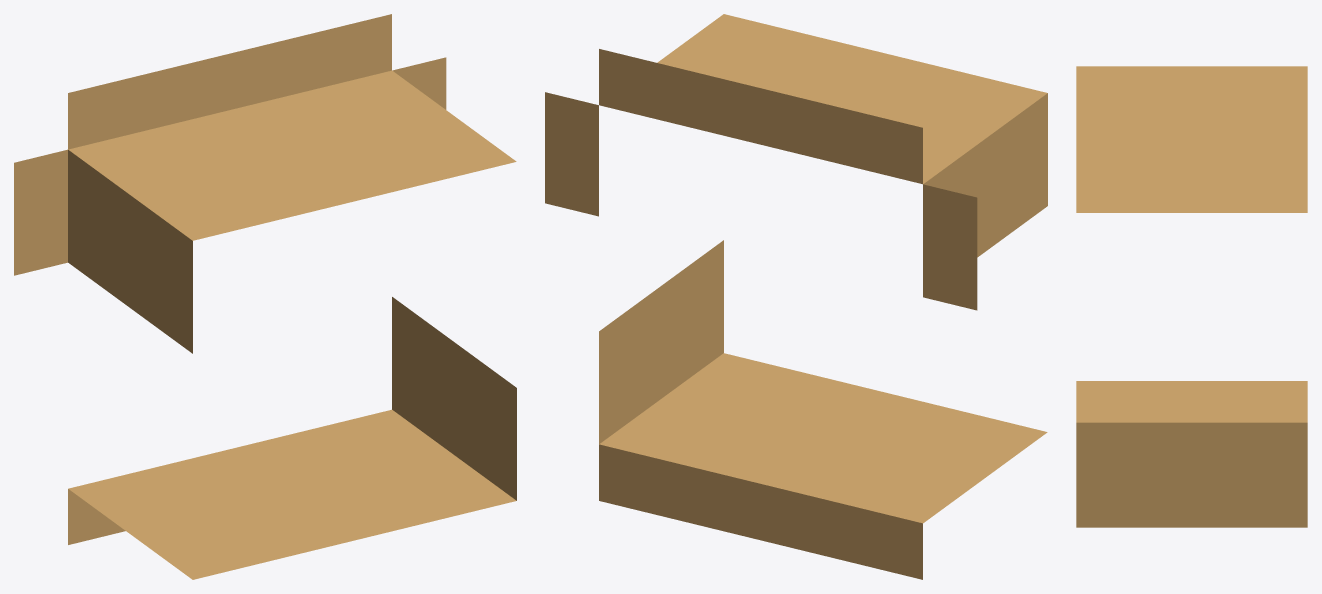
Rendered from SM_Crown.glb.
The picture shows the model from 3 angles, left to right: view 1: azimuth 30°, elevation 25°; view 2: azimuth 150°, elevation 25°; view 3: azimuth 270°, elevation 25°; orthographic projection. The views are drawn at different scales.
Visible parts, largest first — view 1: SM_Crown.001; view 2: SM_Crown.001; view 3: SM_Crown.001.
Boxes of the visible parts, x1,y1,x2,y2 form: SM_Crown.001: (14, 14, 516, 579); SM_Crown.001: (545, 14, 1047, 579); SM_Crown.001: (1076, 66, 1307, 527).
Size of the model in its own units: 50 by 50 by 25.
1 material, 1 textured.
